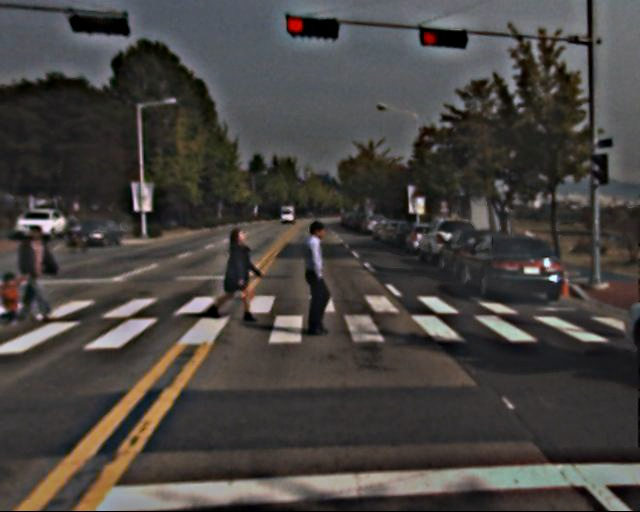person: (292, 217, 342, 339), (1, 218, 58, 324), (213, 225, 251, 318)
